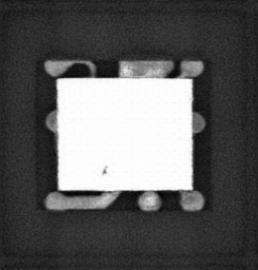DIE_INK: (100, 163, 110, 176)
